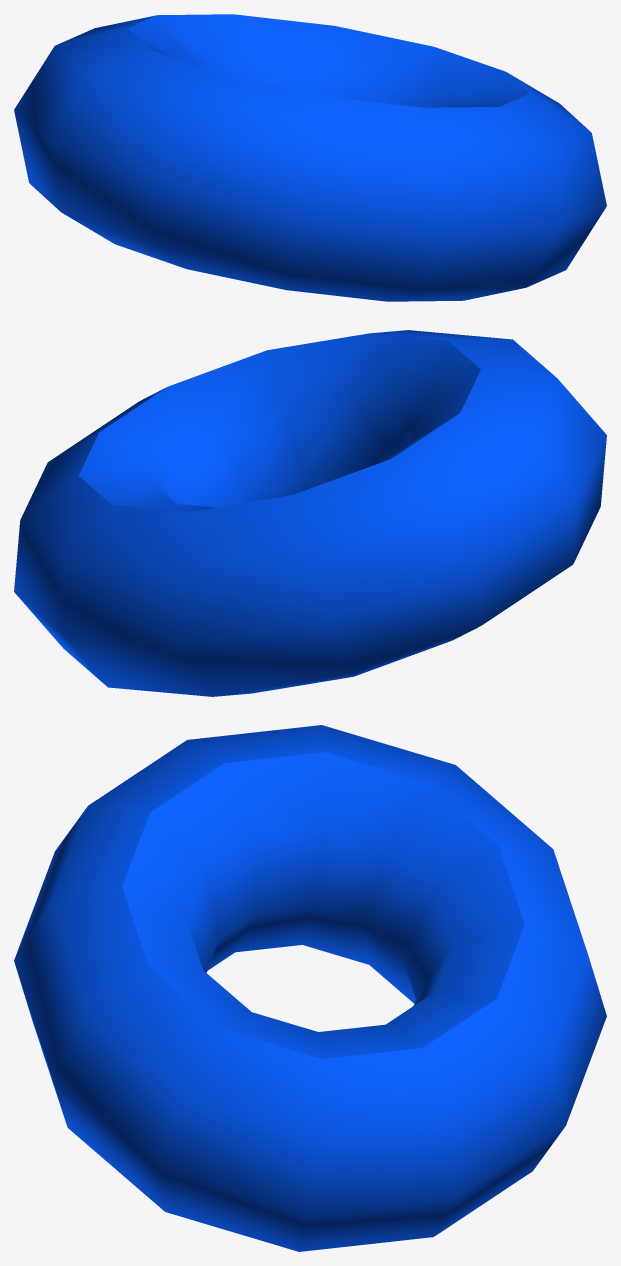
3 views of the same model, one above another, from view 1: azimuth 30°, elevation 25°; view 2: azimuth 150°, elevation 25°; view 3: azimuth 270°, elevation 25° (orthographic). The views are drawn at different scales.
Visible parts, largest first — view 1: 3_0; view 2: 3_0; view 3: 3_0.
Part boxes in pixels (box(x1,y1,x2,y2)): 3_0: box(14, 14, 606, 301); 3_0: box(14, 330, 606, 696); 3_0: box(14, 725, 606, 1251).
Bounding box in the file's own units: 8.48 × 4.44 × 7.6.
